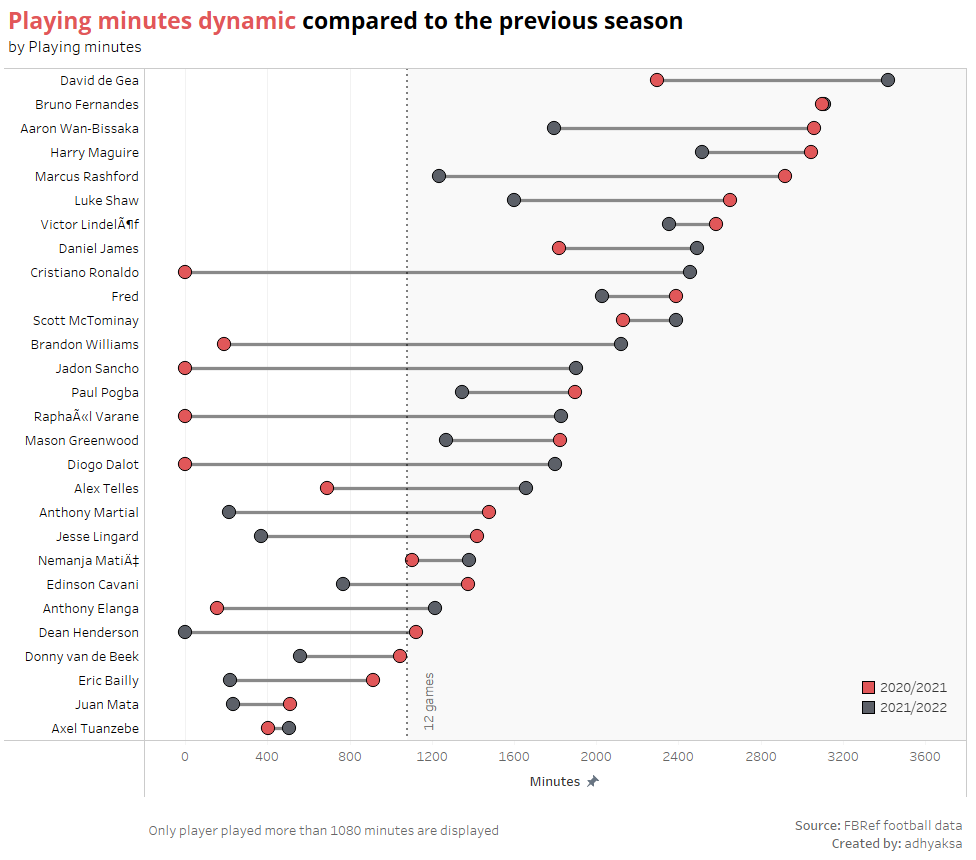

The page's visual inventory and layout, read from the dashboard file:
{"tool":"tableau","page":{"name":"Dashboard 9","canvas":[1000,1000],"units":"permille","ordinal":7},"visuals":[{"type":"worksheet","title":"Sheet 9","mark":"Automatic","rows":["player"],"box":[59.5,17.6,534.8,982.4]},{"type":"text","box":[292.1,713.3,15.7,79.9]},{"type":"legend","title":"Sheet 9","param":"[federated.0urpp781fugiwj11n9zxx0jq5yfu].[:Measure Names]","box":[521.4,735.6,68.8,57.6]},{"type":"text","box":[137.6,961.2,284.2,42.3]}]}

Visuals, with their boxes on the dashboard's canvas, which has no fixed pixel size, in thousandths of its width and height (x1, y1, x2, y2). These are canvas units, not pixel positions in the 976x860 screenshot, which may show the page scaled, cropped or inside an application window:
"Sheet 9" worksheet: [60, 18, 594, 1000]
text: [292, 713, 308, 793]
"Sheet 9" legend: [521, 736, 590, 793]
text: [138, 961, 422, 1004]
